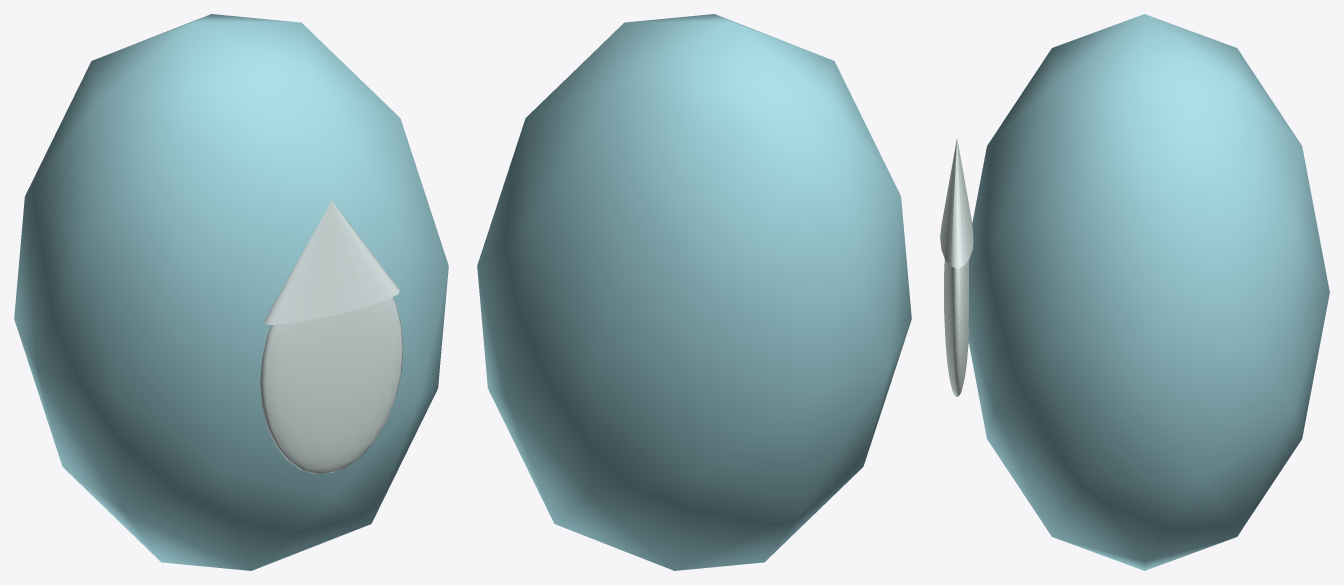
The model's file is item-waterStone.glb.
3 renders of one model, left to right at view 1: azimuth 30°, elevation 25°; view 2: azimuth 150°, elevation 25°; view 3: azimuth 270°, elevation 25°, orthographic. The views are drawn at different scales.
Visible parts, largest first — view 1: item-waterStone; view 2: item-waterStone; view 3: item-waterStone.
Boxes of the visible parts, box(x1,y1,x2,y2) form: item-waterStone: box(14, 14, 448, 570); item-waterStone: box(477, 14, 911, 570); item-waterStone: box(940, 14, 1329, 570).
Size of the model in its own units: 0.3958 by 0.5442 by 0.3679.
